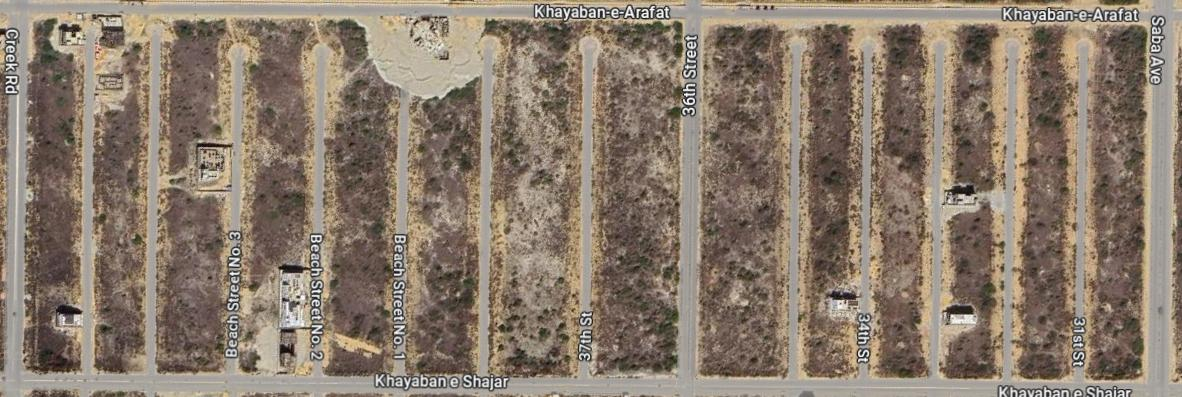Buildings: (493, 24, 584, 371), (593, 19, 681, 376), (699, 25, 785, 373), (157, 16, 234, 371), (404, 20, 478, 370), (325, 19, 396, 377), (244, 21, 316, 372), (1081, 25, 1151, 376), (21, 15, 83, 370), (944, 21, 1004, 380), (1015, 20, 1072, 372), (873, 25, 928, 374), (804, 25, 859, 372), (92, 18, 146, 369)
